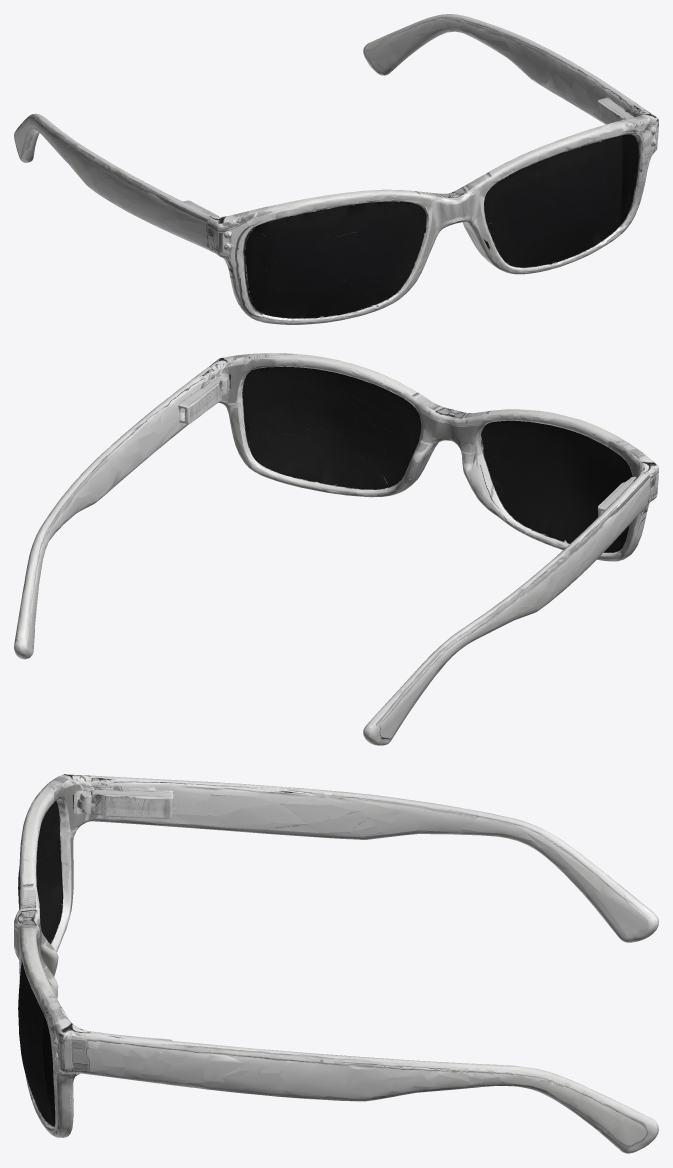
Rendered from el-sunglasses.glb.
3 renders of one model, top to bottom at view 1: azimuth 30°, elevation 25°; view 2: azimuth 150°, elevation 25°; view 3: azimuth 270°, elevation 25°, orthographic. The views are drawn at different scales.
Parts seen in each view (by area): view 1: Mesh_0; view 2: Mesh_0; view 3: Mesh_0.
Part boxes in pixels (box(x1,y1,x2,y2)): Mesh_0: box(14, 14, 658, 324); Mesh_0: box(14, 353, 658, 745); Mesh_0: box(14, 774, 658, 1153).
Size of the model in its own units: 0.9946 by 0.2731 by 0.9999.
1 material, 1 textured.
